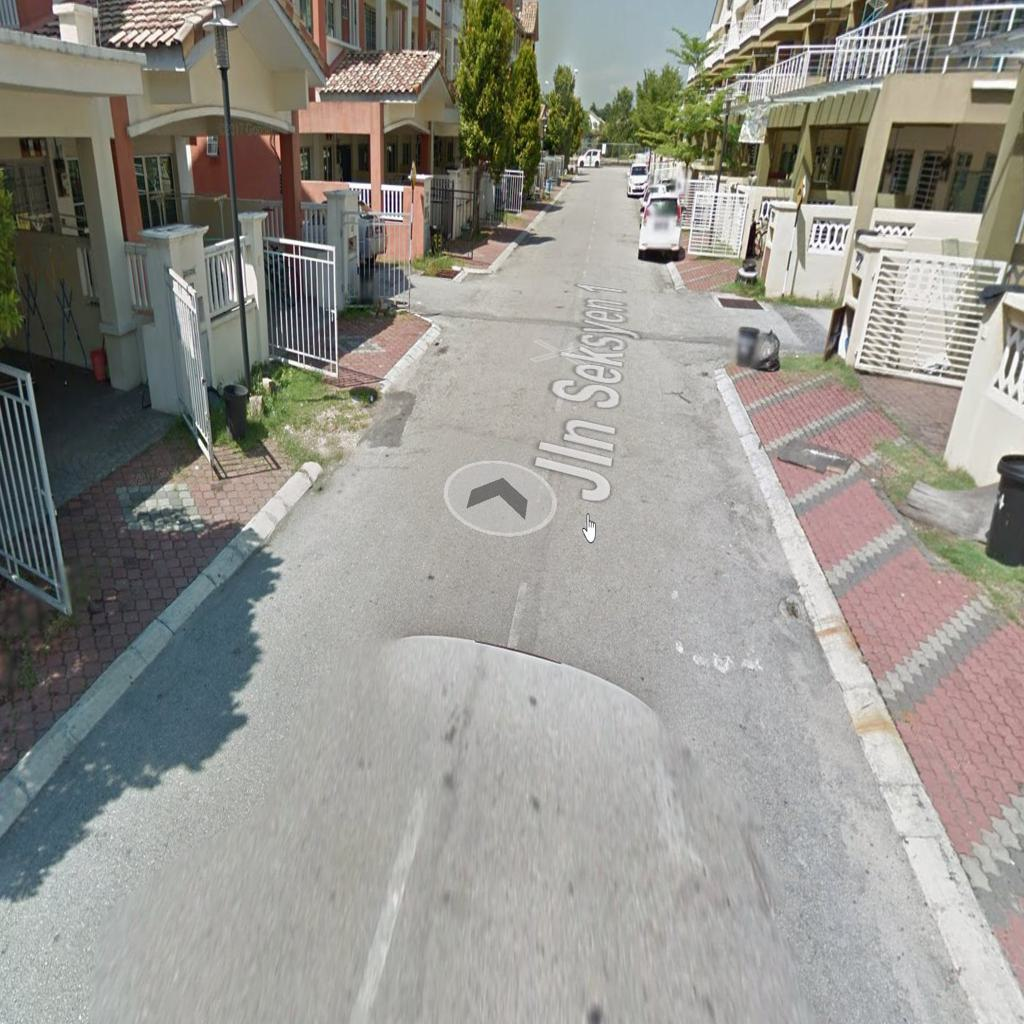Junction: (668, 271, 845, 387), (369, 238, 481, 333)
